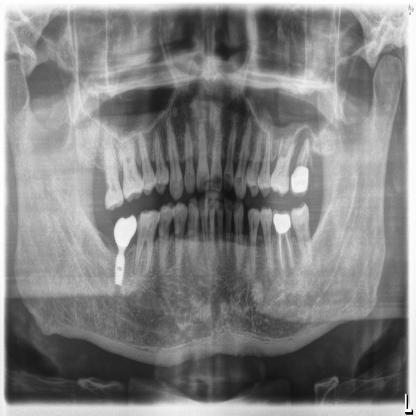Bicon: (114, 247, 129, 290)
